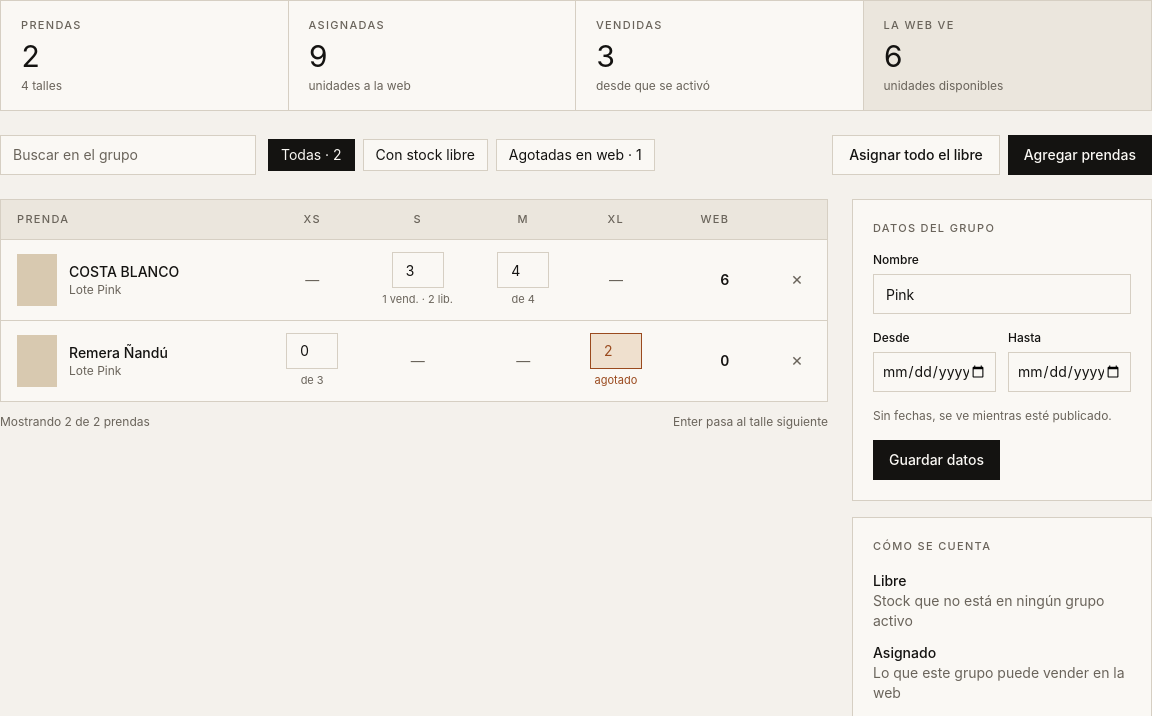
GroupWorkspace › unsaved changes › saves only the changed sizes and clears the bar
Replace the text in the number field named "Asignado: COSTA BLANCO, talle S" with "2" at (418, 270), box [392, 252, 444, 288]
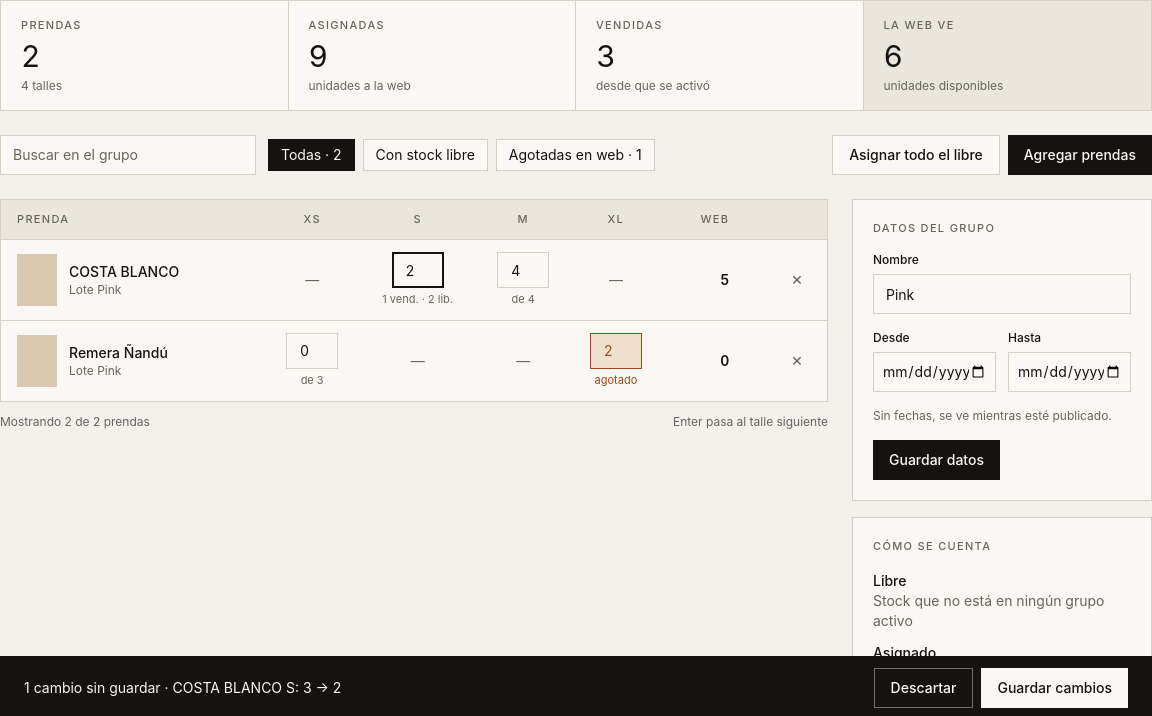
Replace the text in the number field named "Asignado: Remera Ñandú, talle XS" with "3" at (312, 351), box [286, 333, 338, 369]
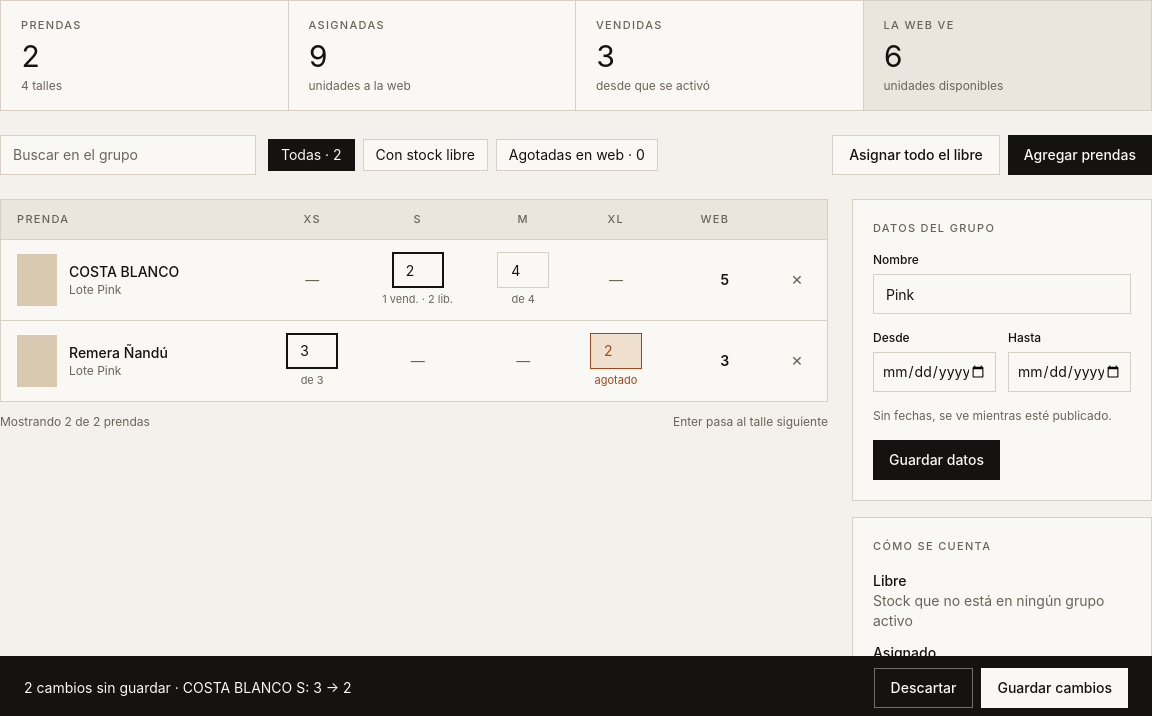
Click the button "Guardar cambios" at (1055, 688), box [982, 668, 1128, 708]
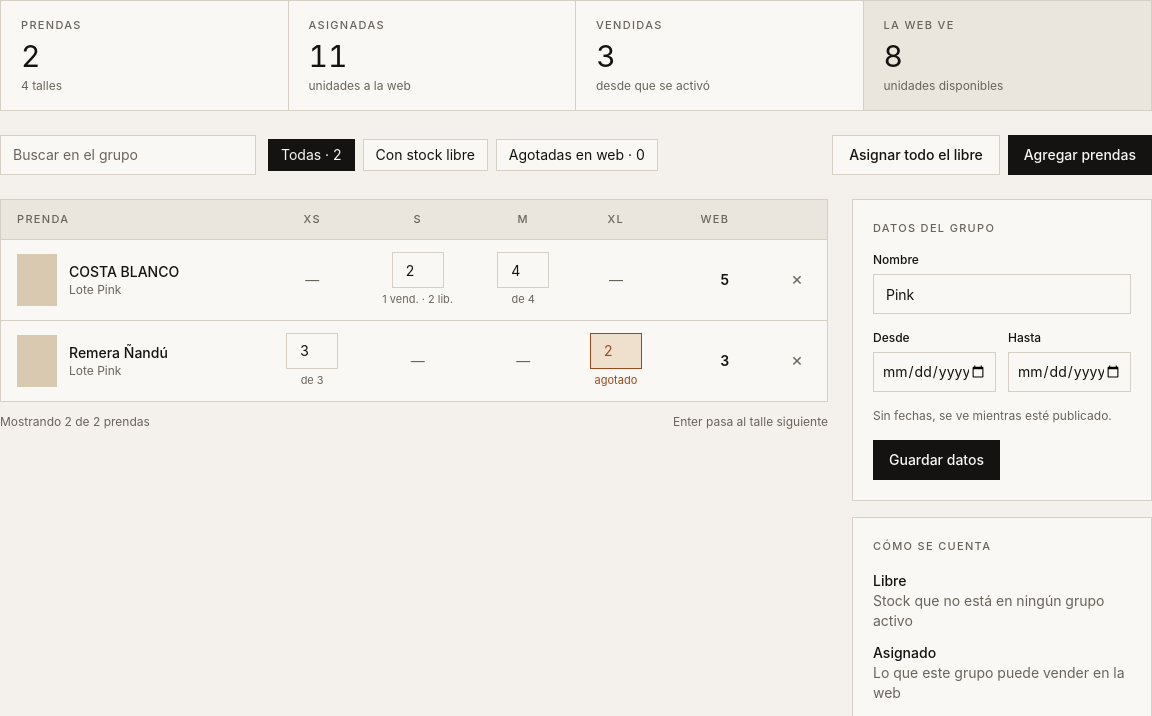
expect the button "Guardar cambios" is gone: met
